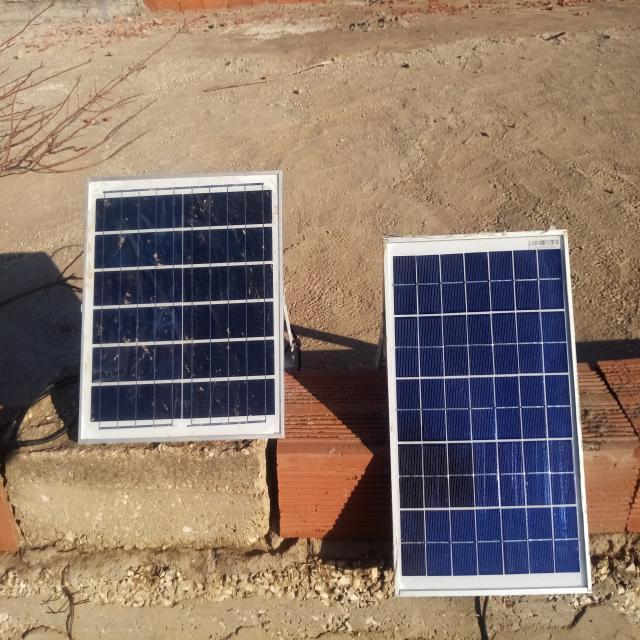faulty: (78, 170, 285, 444)
no faulty: (383, 230, 592, 595)
